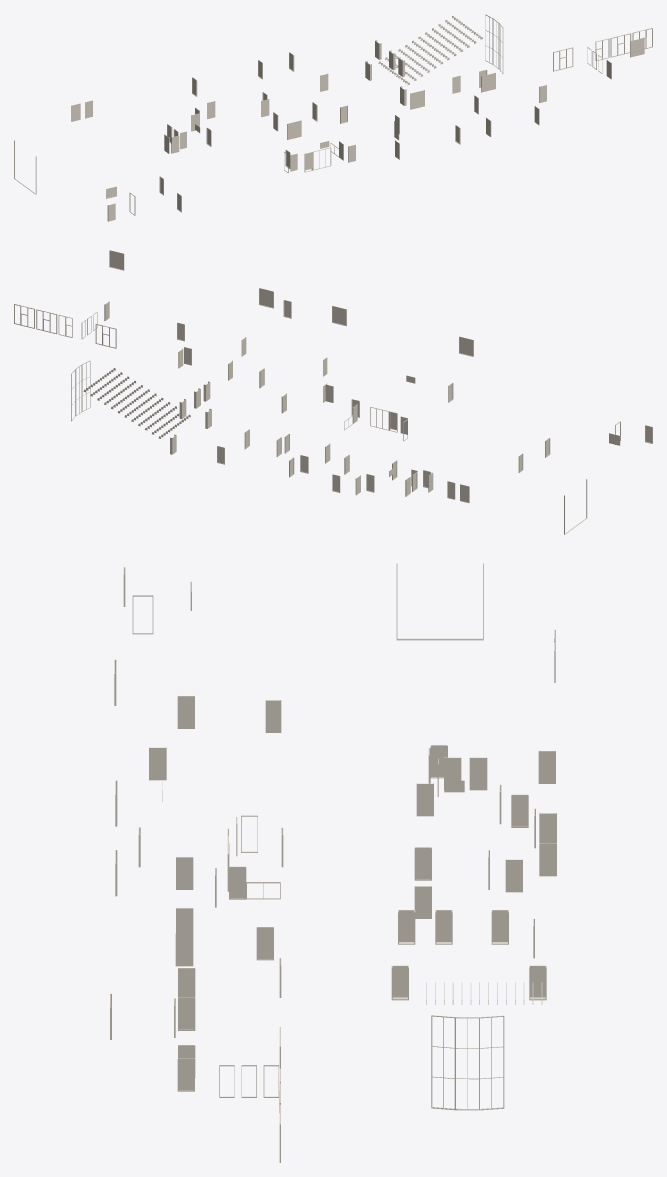
File: autre_2.fbx
3 renders of one model, top to bottom at view 1: azimuth 30°, elevation 25°; view 2: azimuth 150°, elevation 25°; view 3: azimuth 270°, elevation 25°, orthographic. The views are drawn at different scales.
Visible parts, largest first — view 1: autre_2; view 2: autre_2; view 3: autre_2.
Boxes of the visible parts, x1,y1,x2,y2 form: autre_2: (14, 14, 652, 221); autre_2: (14, 250, 652, 534); autre_2: (110, 563, 556, 1162).
Bounding box in the file's own units: 796 × 104 × 262.
